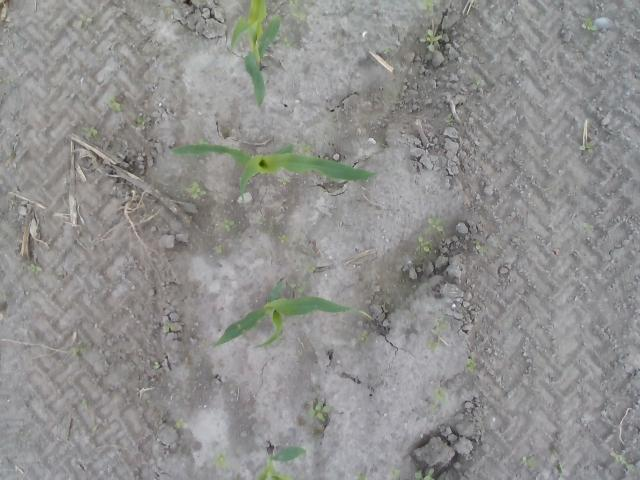Maize: (169, 144, 377, 206), (215, 281, 353, 348), (230, 1, 281, 106), (255, 445, 306, 480)
Weeds: (610, 452, 636, 473), (418, 29, 441, 52), (184, 180, 206, 200), (309, 402, 329, 422), (288, 0, 306, 22), (104, 95, 122, 112), (416, 235, 432, 252), (74, 13, 92, 28), (414, 468, 436, 480), (222, 216, 238, 232), (582, 16, 598, 32), (426, 216, 443, 231), (463, 357, 478, 373), (80, 126, 98, 138), (578, 141, 593, 154), (289, 281, 304, 293), (356, 328, 367, 342), (216, 452, 226, 466), (213, 244, 226, 254), (134, 113, 144, 126), (388, 468, 401, 478), (420, 0, 436, 8), (434, 388, 446, 398), (30, 262, 42, 272), (174, 417, 184, 428), (152, 361, 162, 371), (277, 234, 287, 244), (306, 264, 316, 273), (282, 38, 290, 48), (474, 241, 482, 248), (382, 48, 391, 54)
